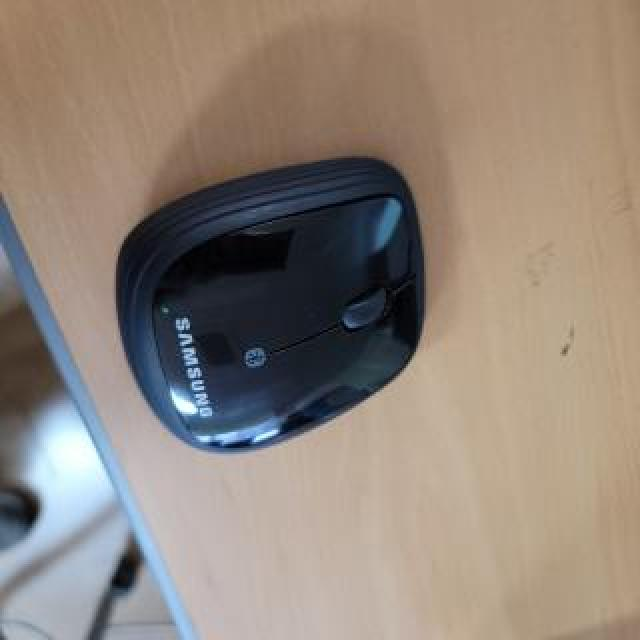mouse: (140, 135, 464, 441)
